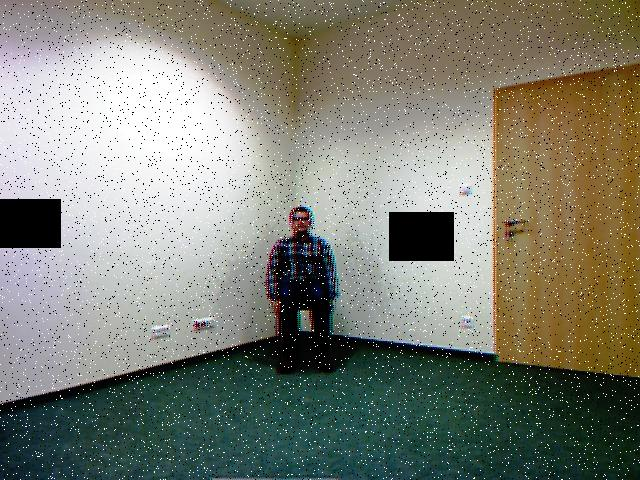sitting: (252, 198, 354, 380)
